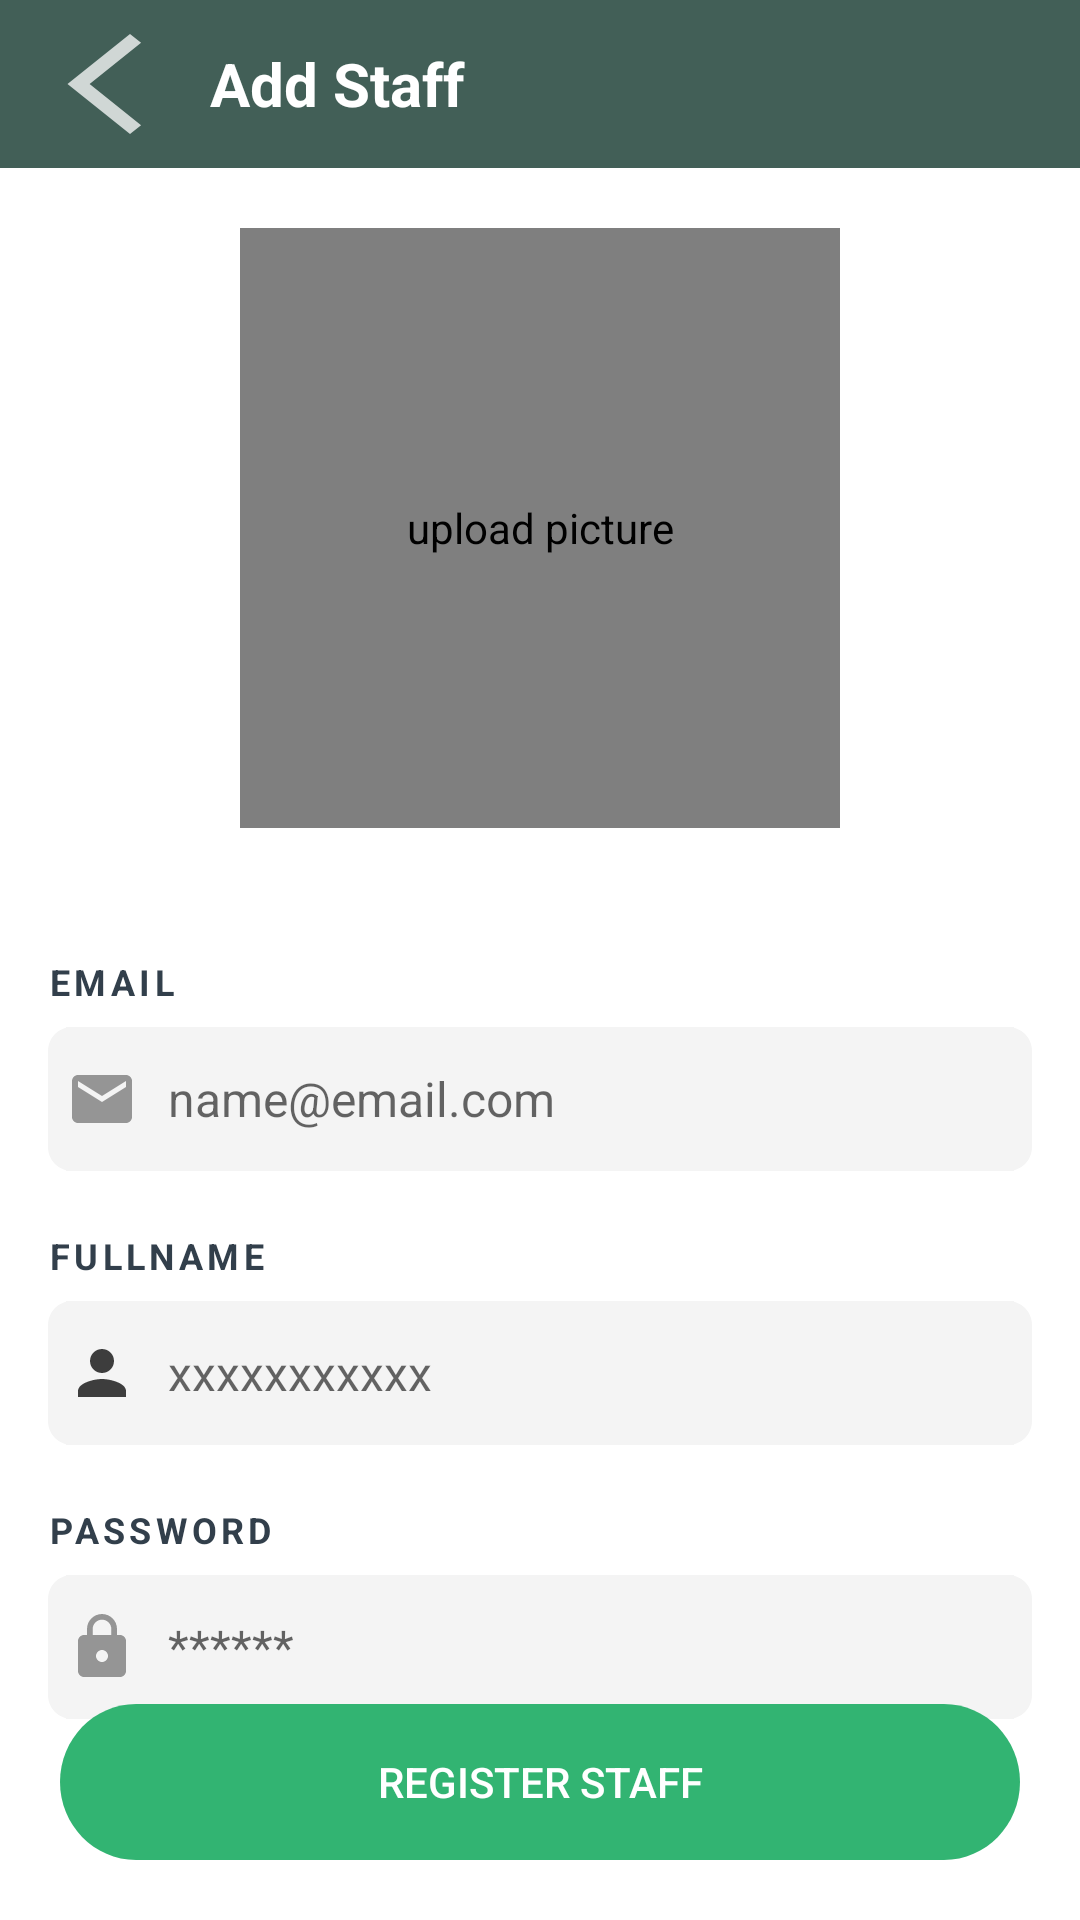

Where to tap for icons on this 1080 x 1920 app screen, as point (x, y):
go back: point (104, 84)
